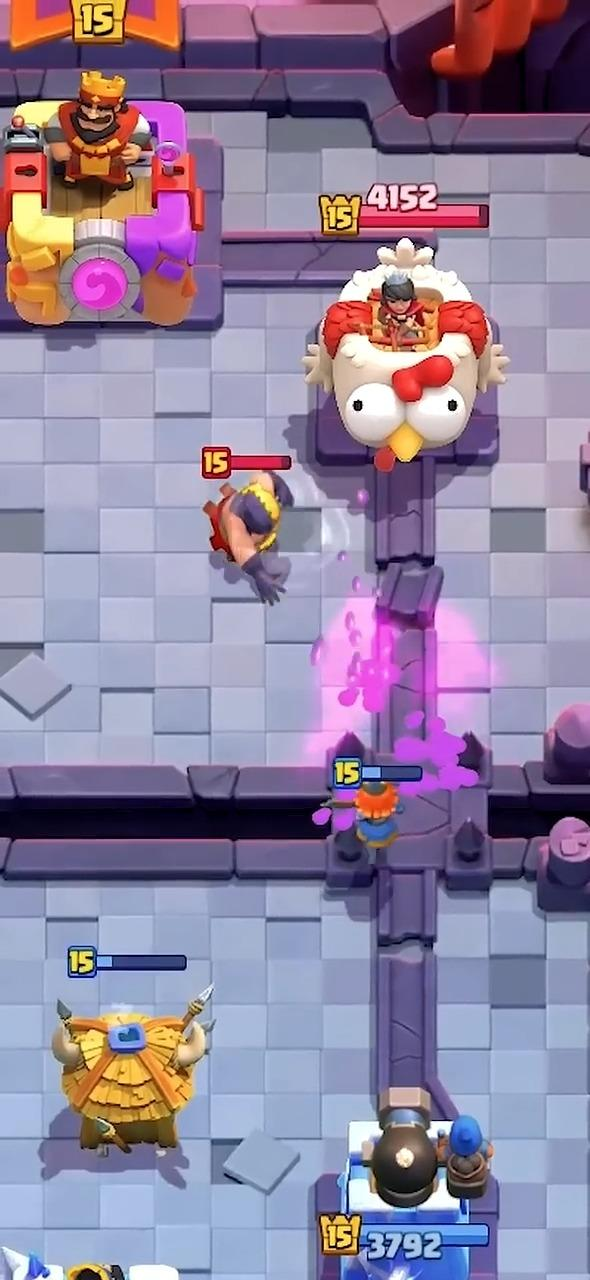executioner: (203, 470, 292, 605)
goblin hut: (51, 987, 213, 1154)
valkyrie: (323, 781, 402, 864)
